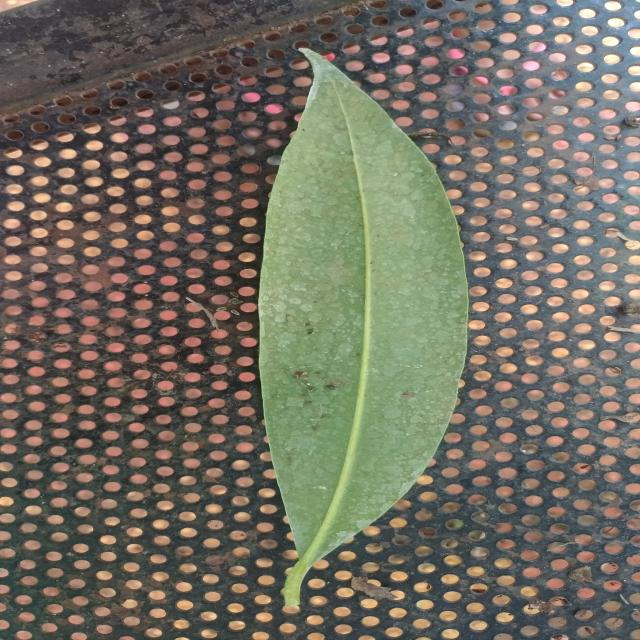nerale: (258, 48, 469, 605)
